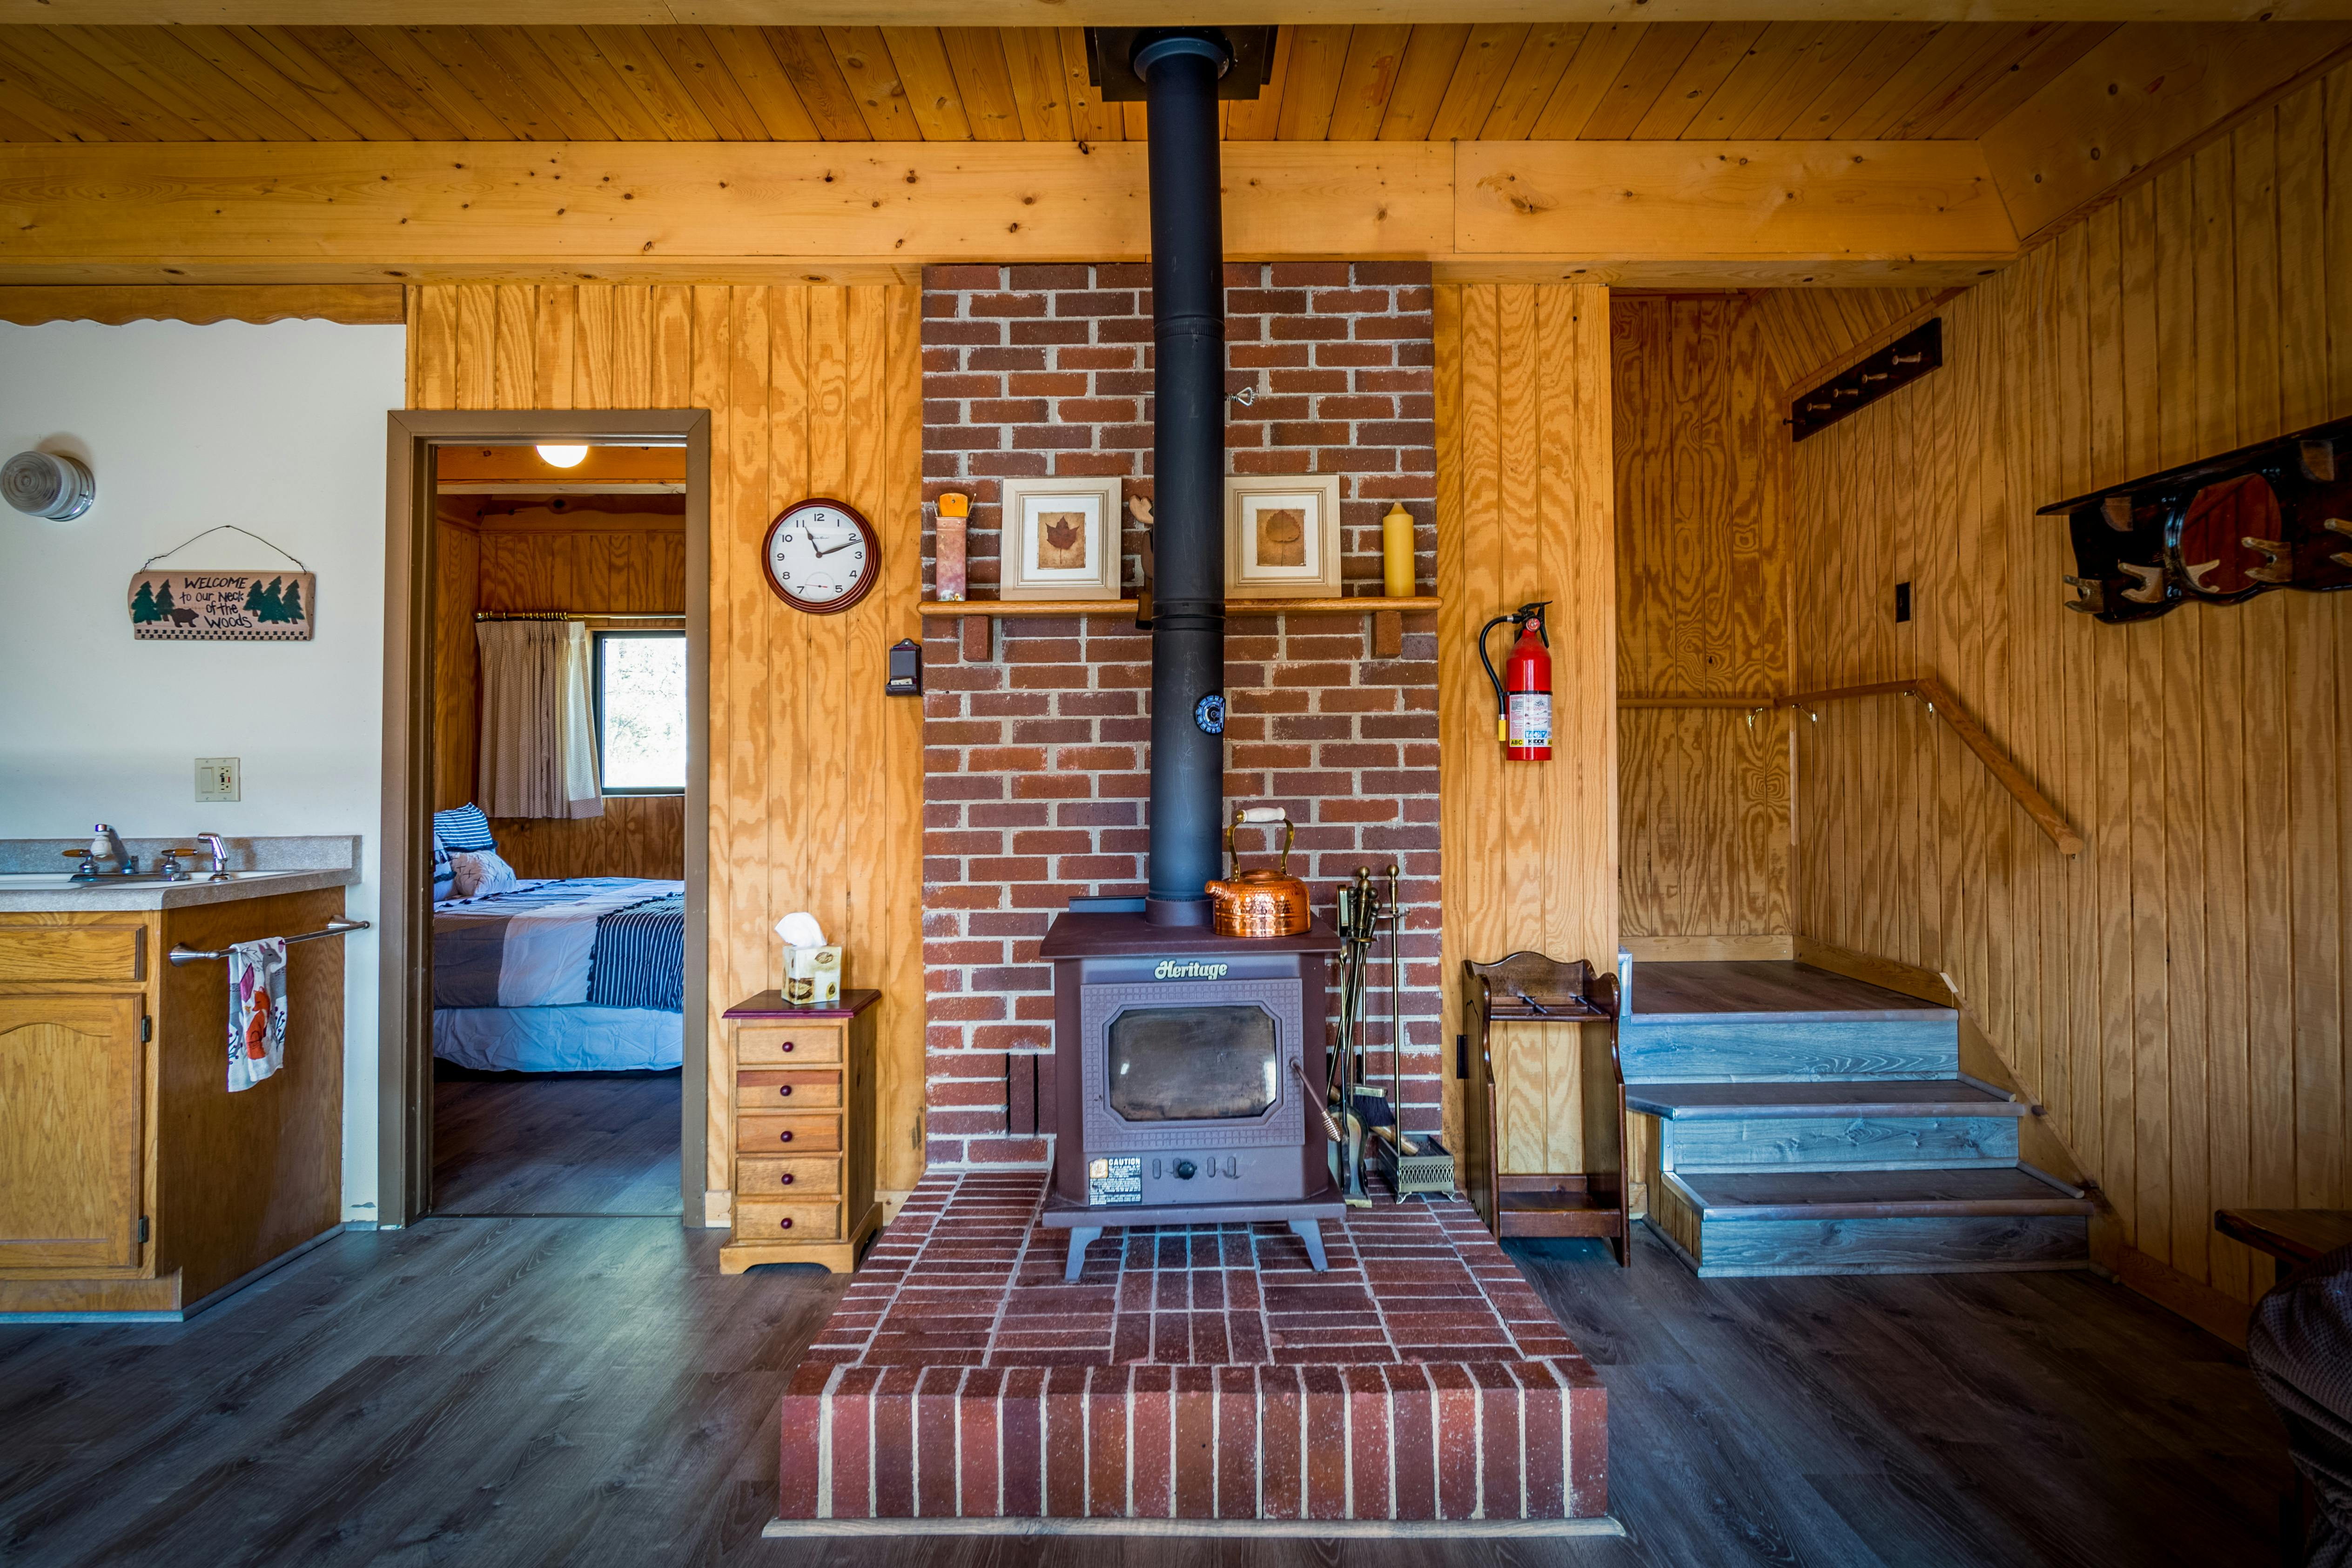extintor: (1494, 597, 1566, 768)
